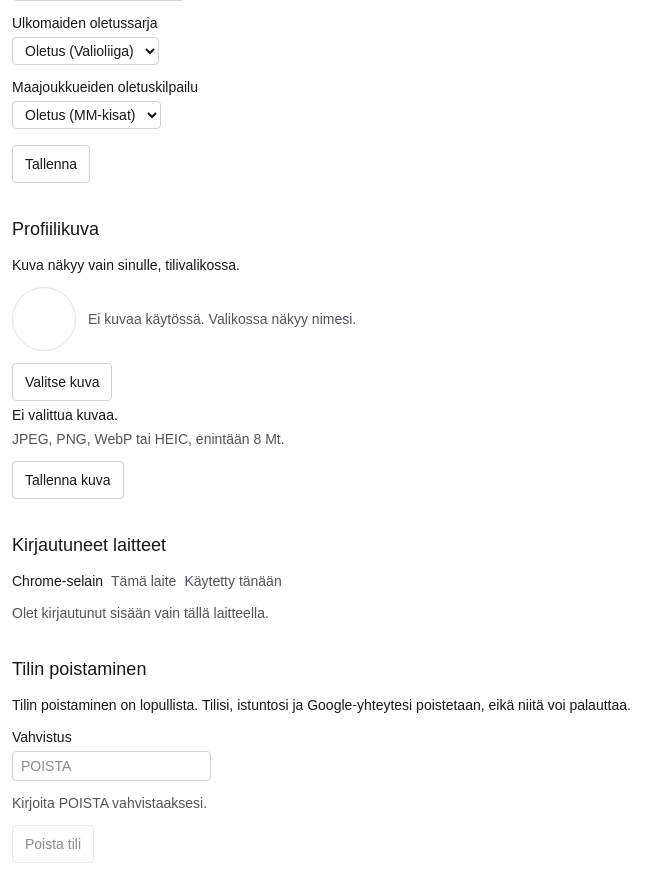
Test: deleting the account › accepts the word with surrounding whitespace
(page scrolled)
Type "  POISTA  " into the field labelled "Vahvistus".
click(112, 766); type("  POISTA  ")  # box top-left (12, 751), bottom-right (211, 781)
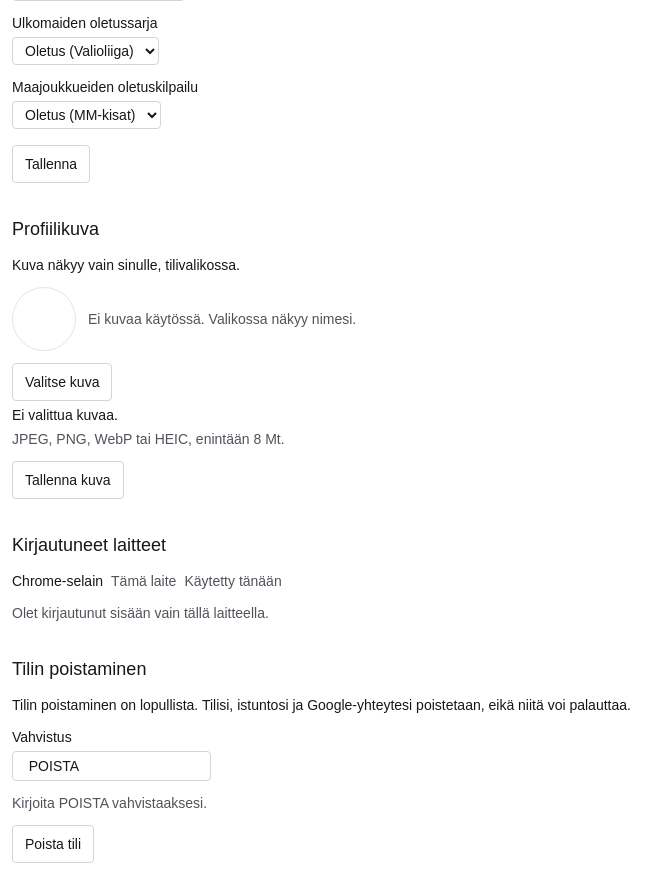
Result: the button "Poista tili" is enabled at top-left (12, 825), bottom-right (94, 863)
